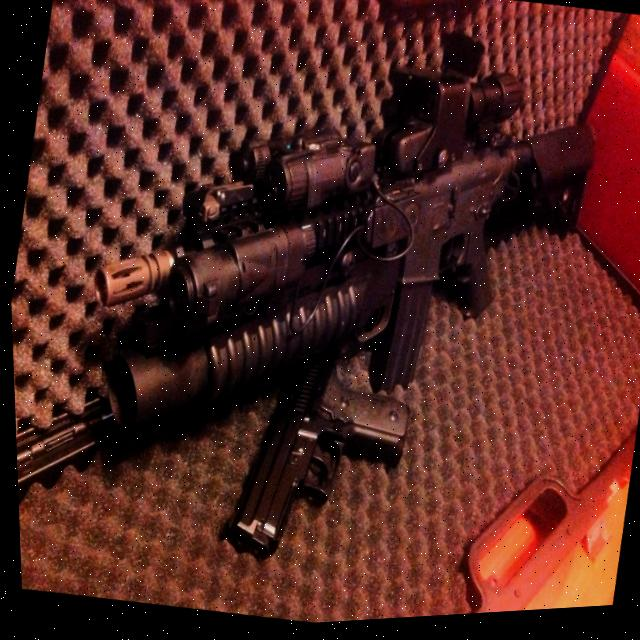firearm: (62, 0, 616, 506)
pistol: (216, 346, 415, 584)
